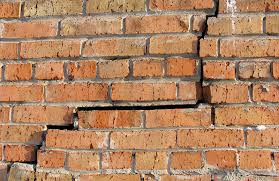stairstep_crack: (4, 0, 222, 175)
